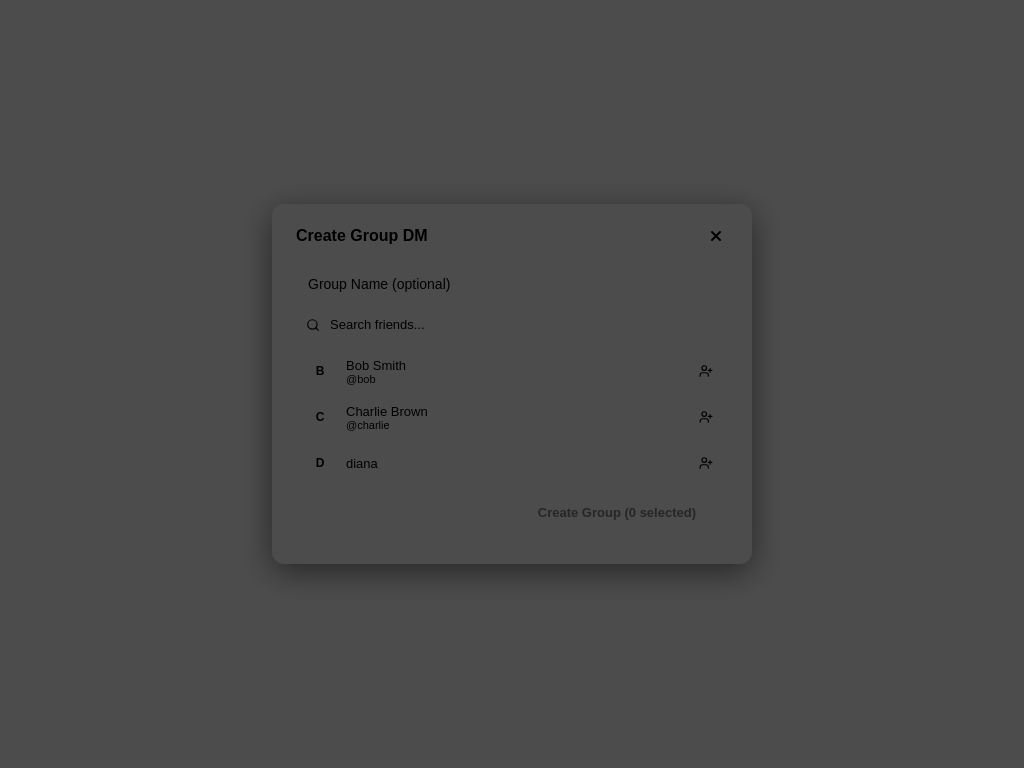
Scenario: CreateGroupModal › adds user chip when friend add button is clicked
Click the add button for Bob
Click the button with class "create-group-add-btn" in the row of "Bob Smith".
click(706, 371)  # box [692,357,720,385]
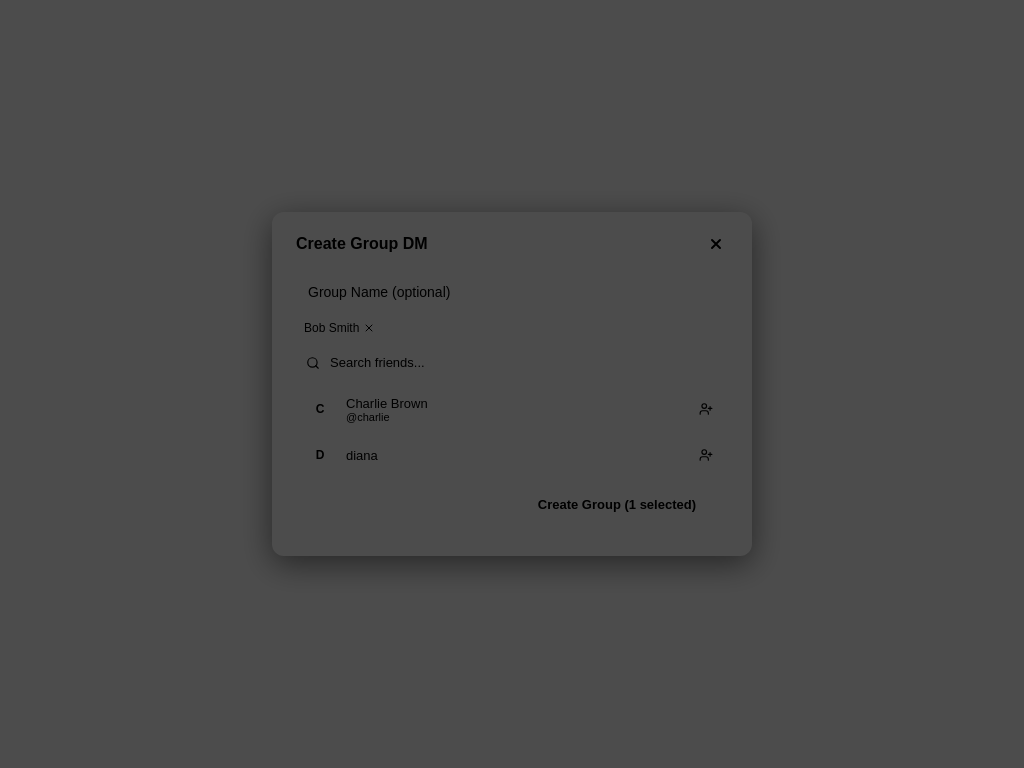
Check: the text "Bob Smith" is shown, box [304,321,375,335]
Check: the button named "Remove bob" is shown, box [363,322,375,334]
